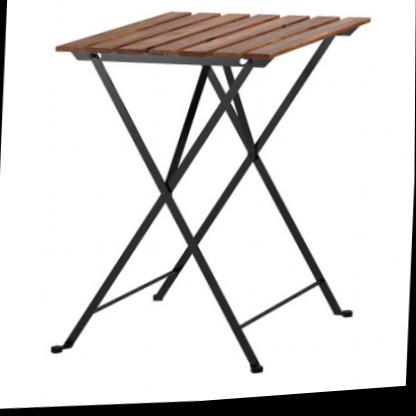Table: (39, 0, 376, 395)
